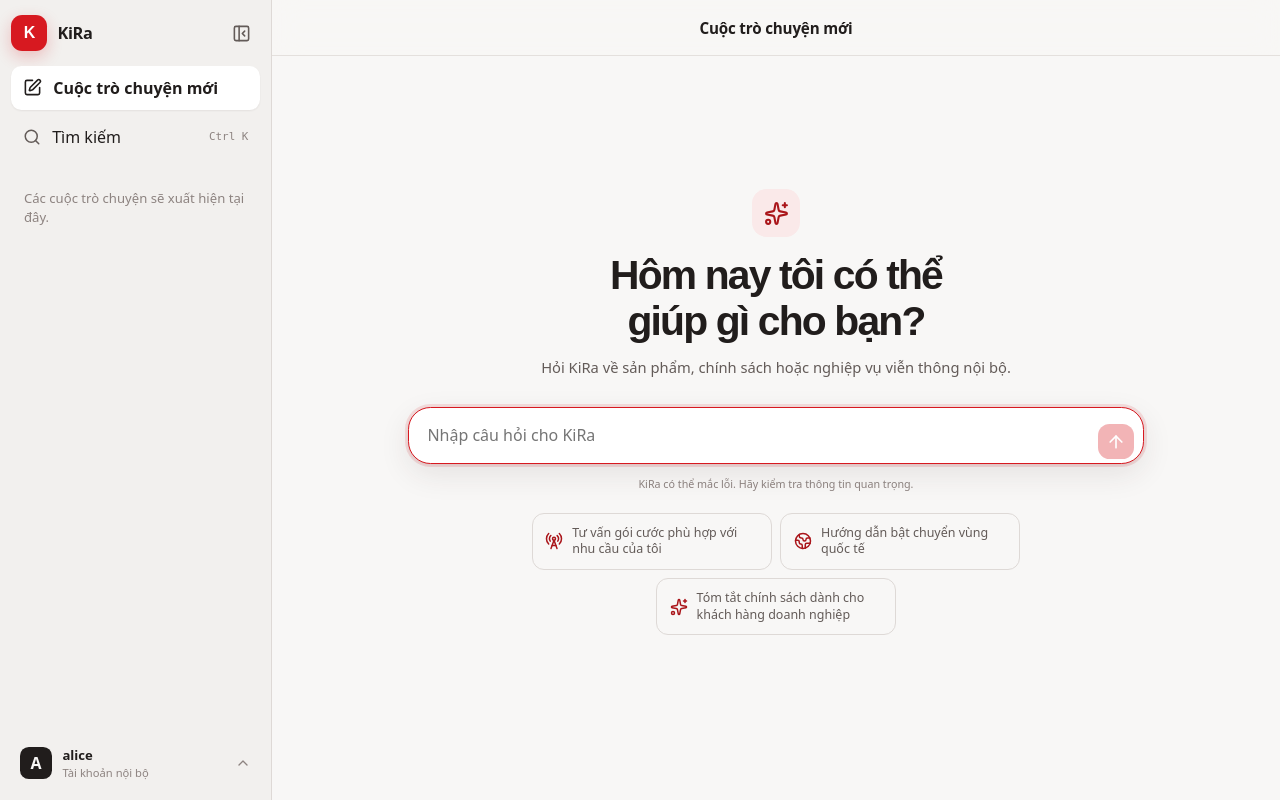
Test case: application authentication routes › sends CSRF on logout and returns to the login screen
The width and height of the screenshot is (1280, 800).
Step 1. Click the button with aria-label "Mở menu tài khoản" → click(136, 763), box [11, 738, 260, 789]
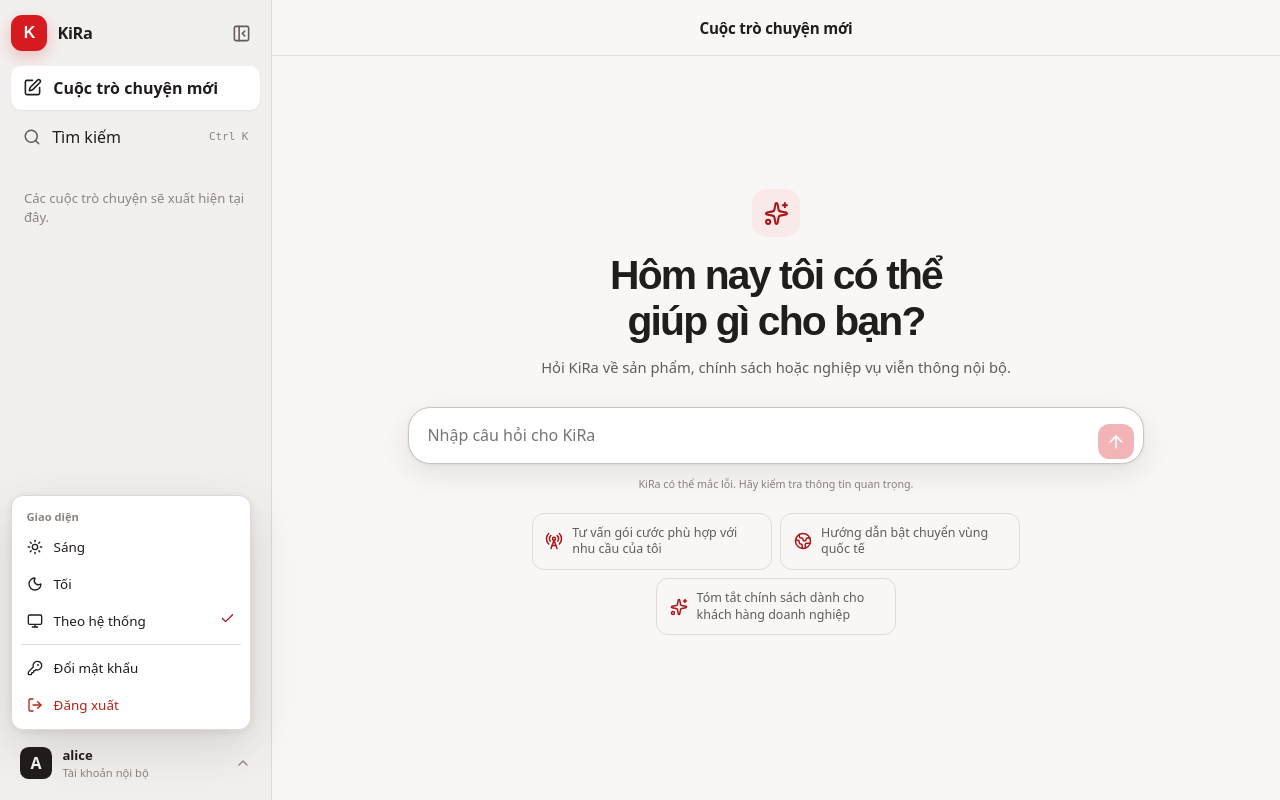
Step 2. Click the menu item "Đăng xuất" → click(73, 705), box [27, 696, 119, 714]
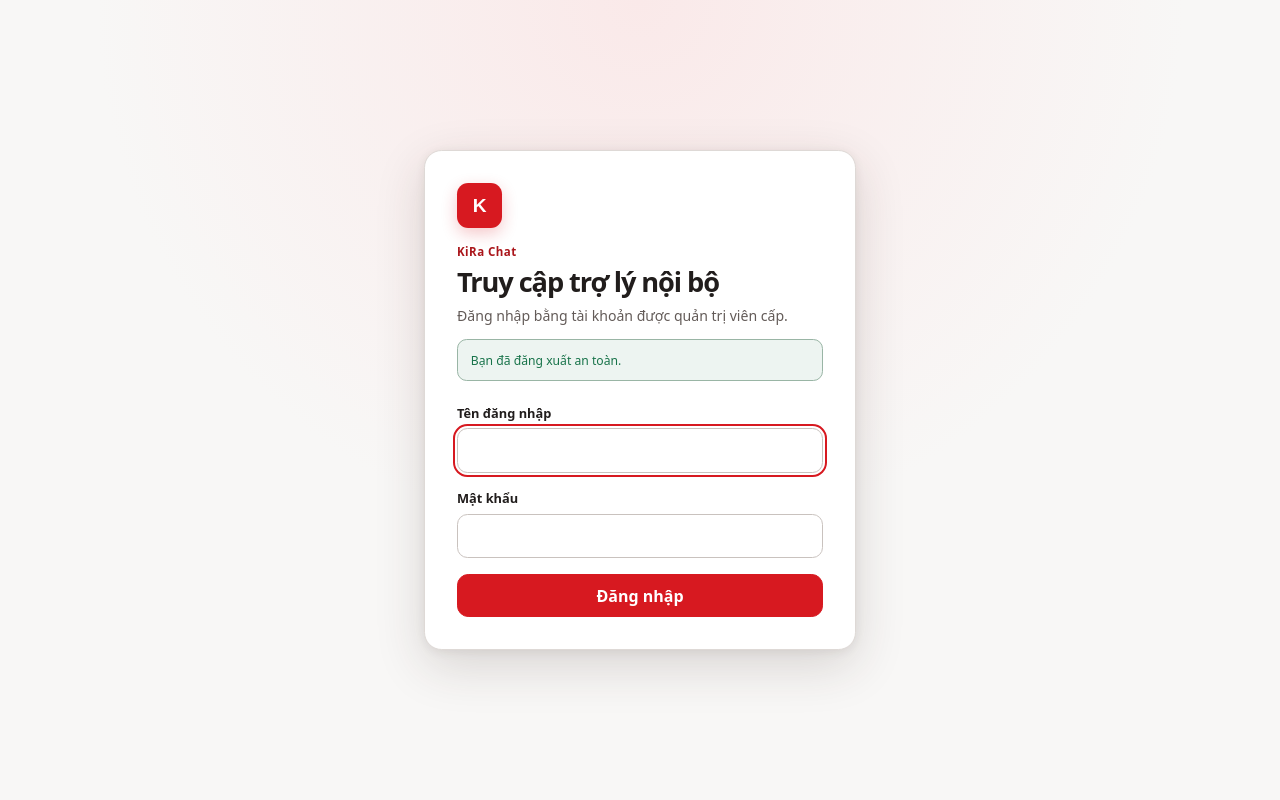
Result: the text "Bạn đã đăng xuất an toàn." is shown at [457, 340, 823, 381]
